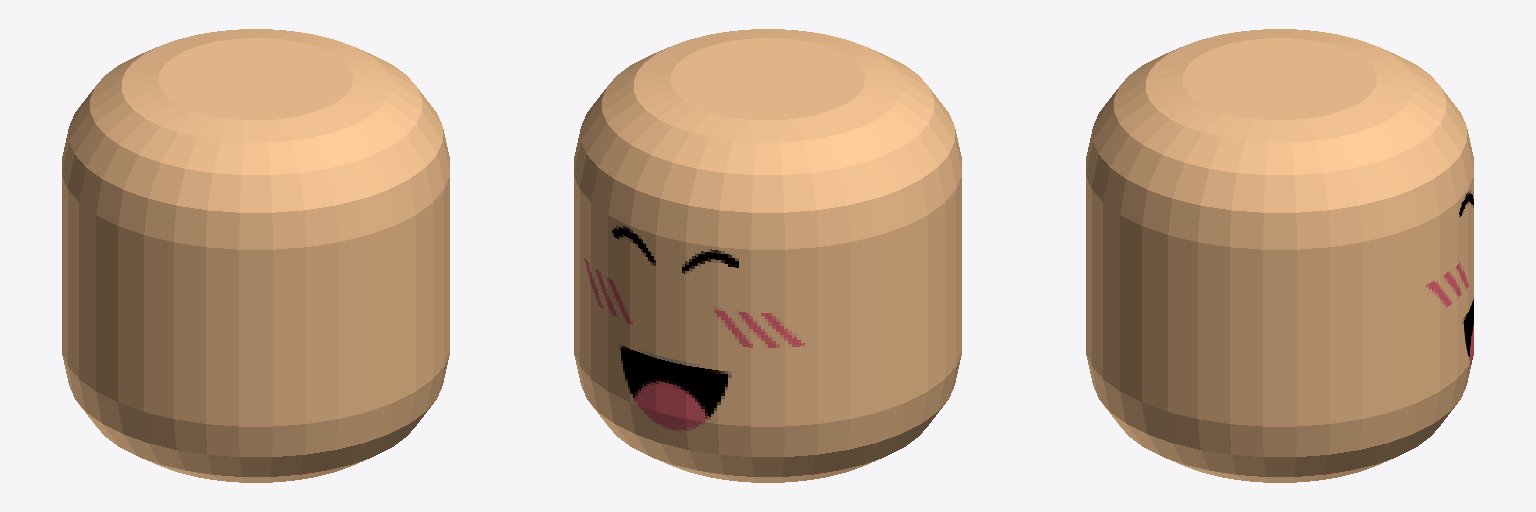
3 views of the same model, side by side, from view 1: azimuth 30°, elevation 25°; view 2: azimuth 150°, elevation 25°; view 3: azimuth 270°, elevation 25° (orthographic).
Visible parts, largest first — view 1: few; view 2: few; view 3: few.
Boxes of the visible parts, x1,y1,x2,y2 form: few: [62, 29, 449, 482]; few: [574, 29, 961, 482]; few: [1086, 29, 1473, 482].
Size of the model in its own units: 1.2 by 1.2 by 1.2.
1 materials, 1 textured.